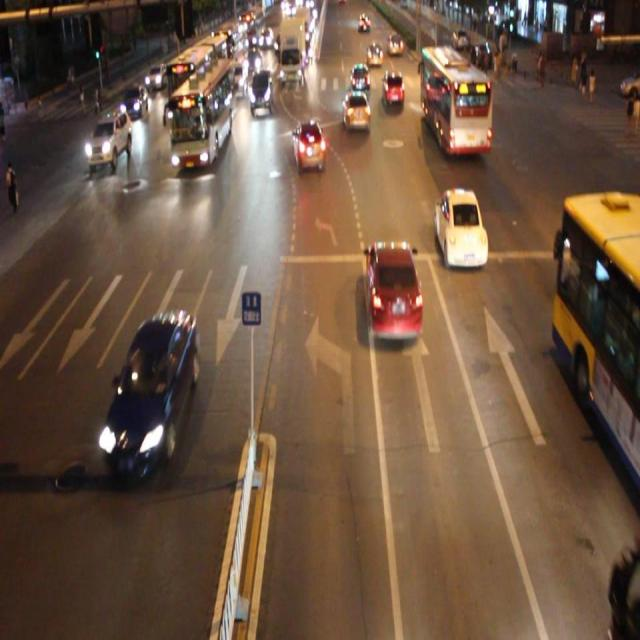car: (100, 311, 196, 472), (366, 240, 421, 342), (434, 185, 486, 268), (89, 110, 131, 168), (293, 120, 326, 170), (341, 90, 370, 132), (248, 68, 273, 110), (121, 84, 148, 119), (381, 70, 405, 108), (348, 62, 370, 96), (144, 64, 167, 90)
van: (552, 196, 640, 498), (419, 45, 491, 154), (170, 60, 234, 168)
